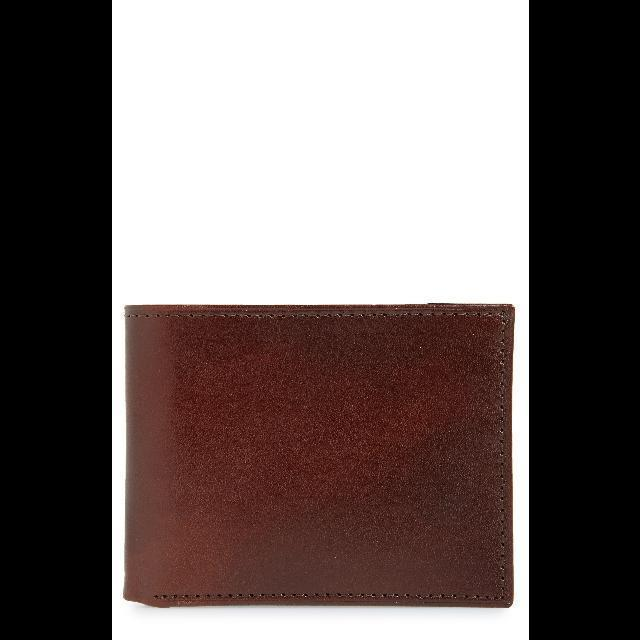wallet: (118, 299, 516, 615)
